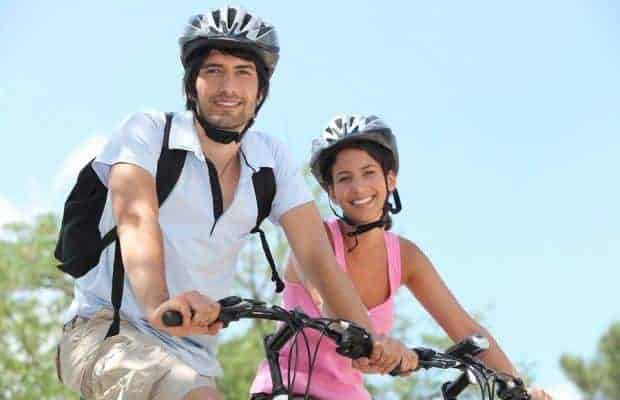helmet: (178, 6, 280, 67), (313, 114, 399, 163)
